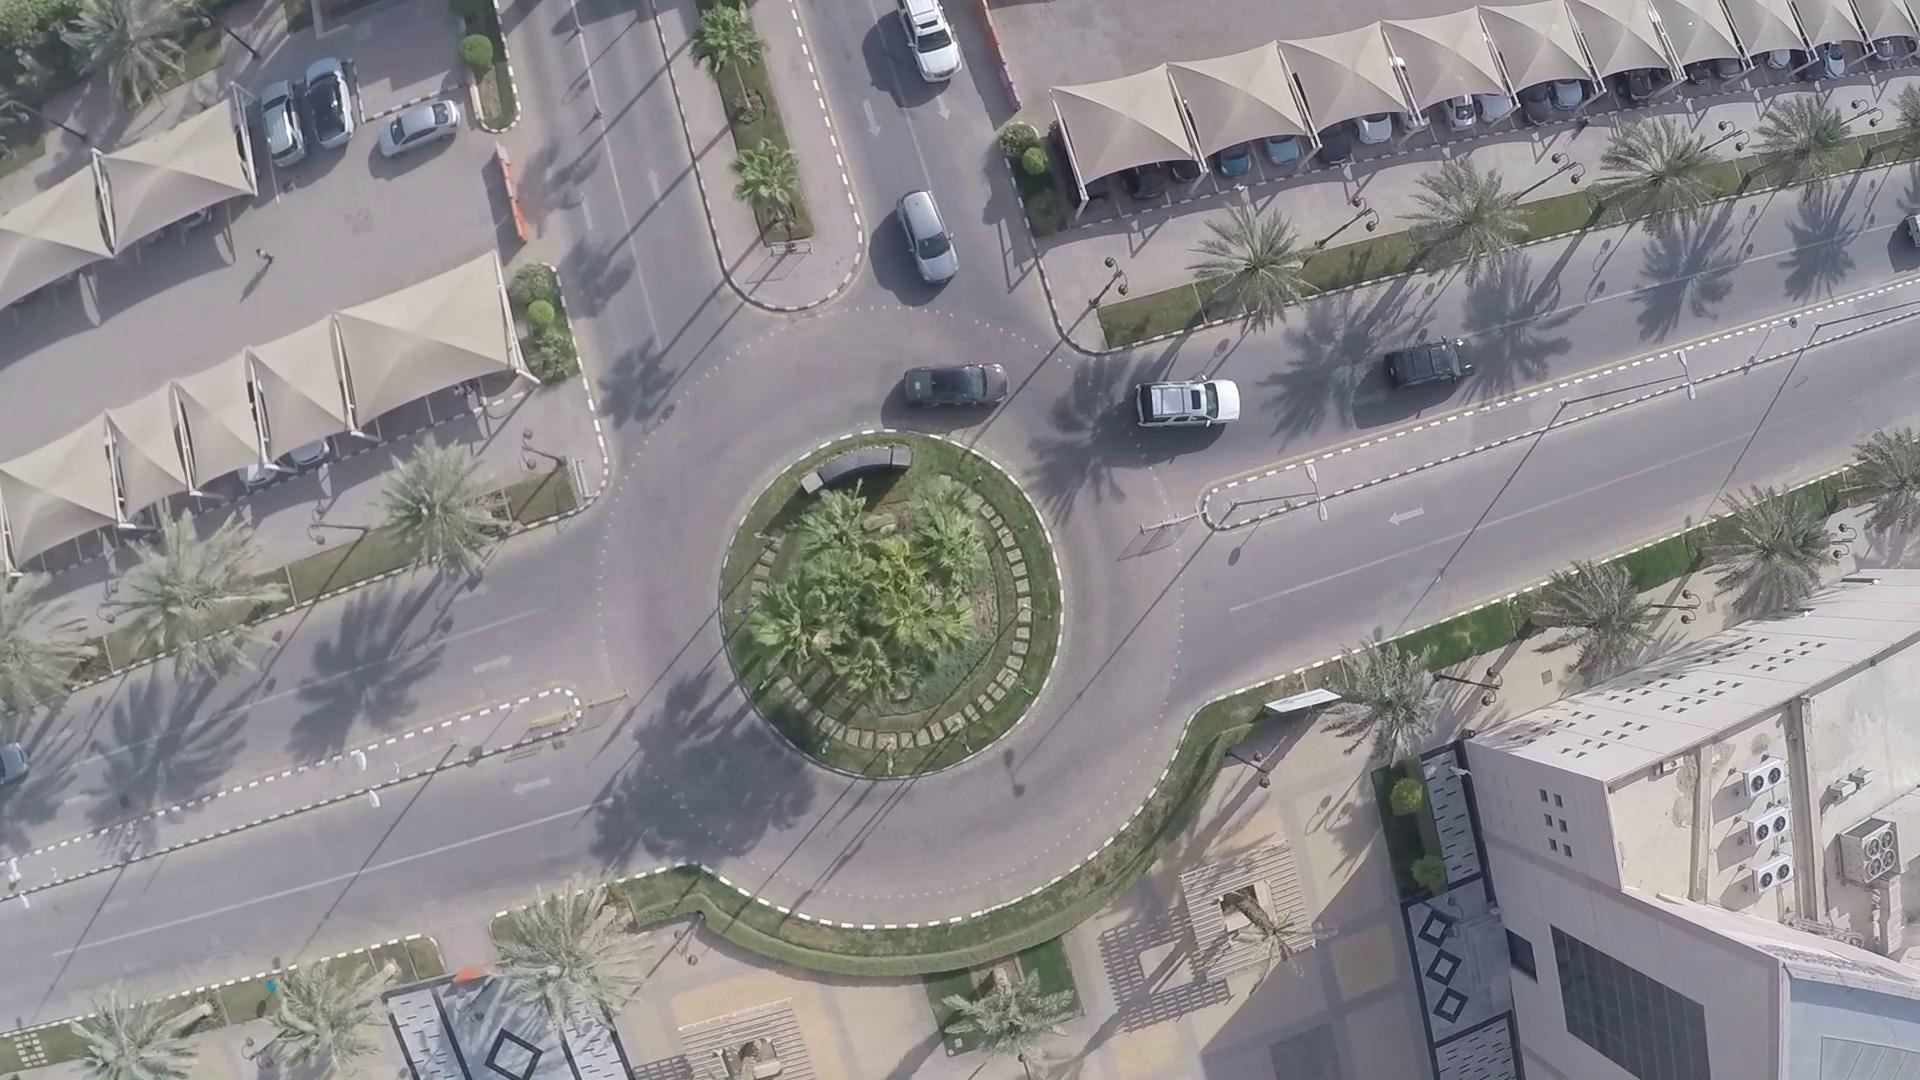vehicle: (1110, 369, 1250, 440), (885, 182, 961, 309), (898, 356, 1016, 423), (391, 75, 469, 169), (1361, 334, 1478, 390), (891, 0, 956, 82)
